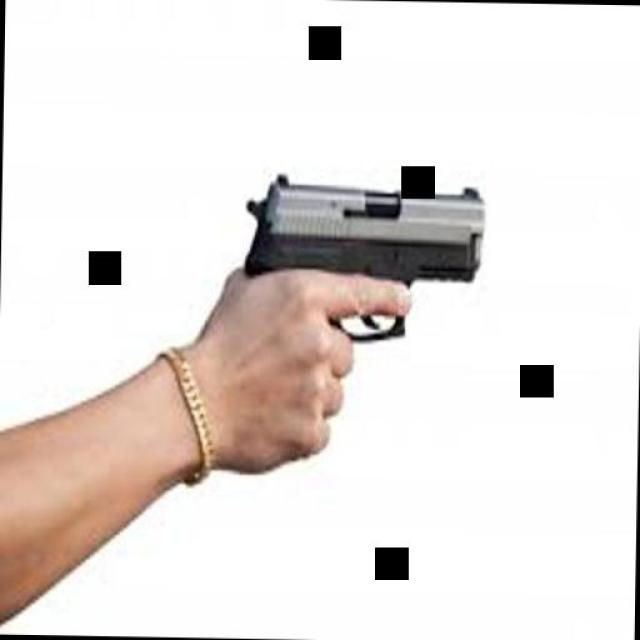gun: (216, 165, 485, 464)
